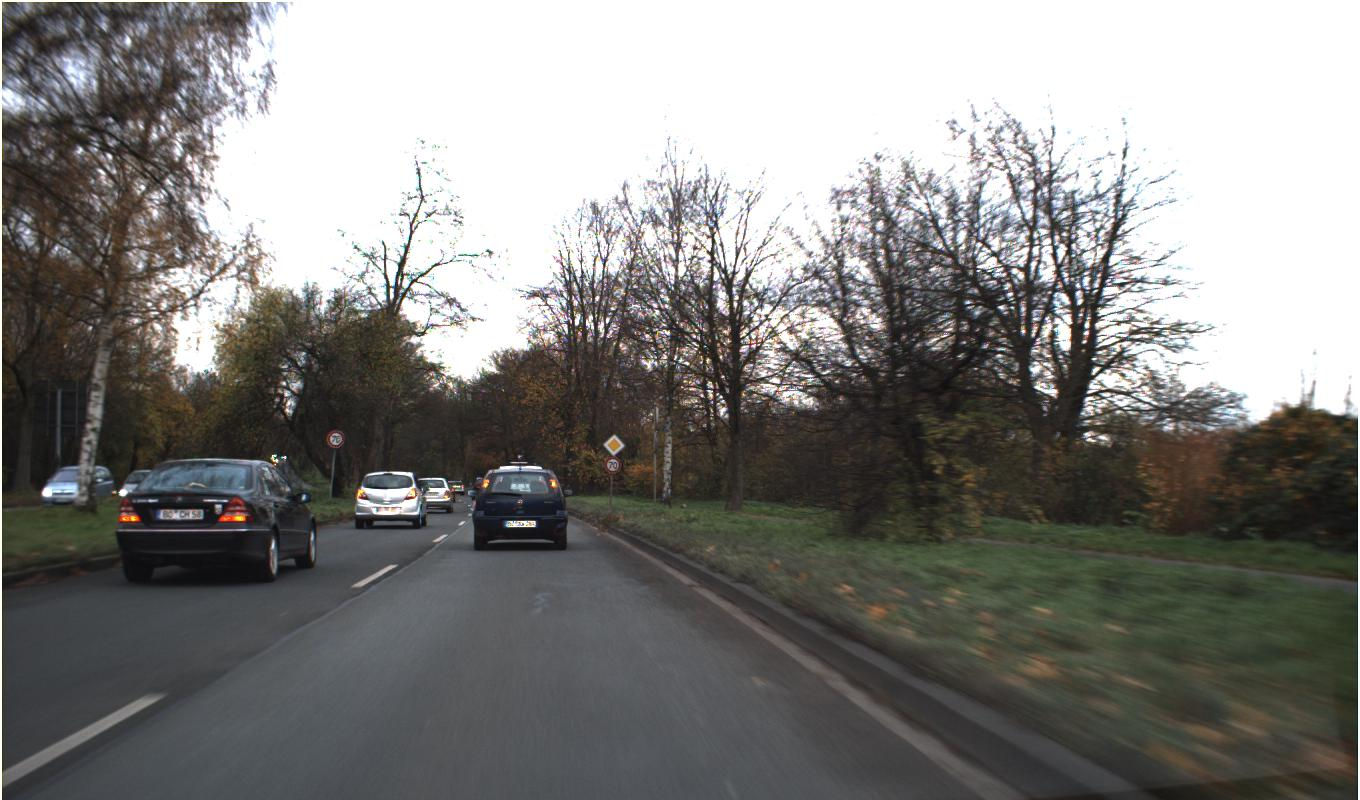prohibitory: (325, 428, 345, 448), (603, 455, 621, 474)
sign: (602, 433, 625, 456)
